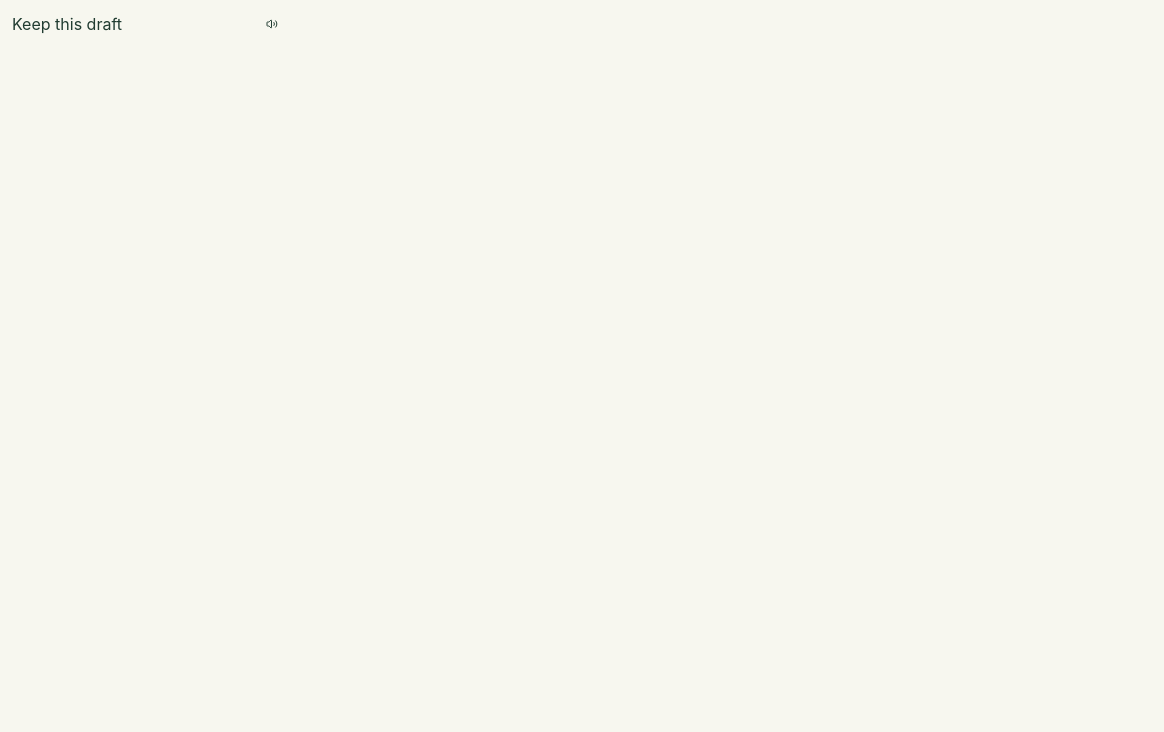
it: Pocket speed survives media loads across multiple passages
Step 1. Click the button named "Read aloud on this Mac" → (272, 24), box [260,12,284,36]
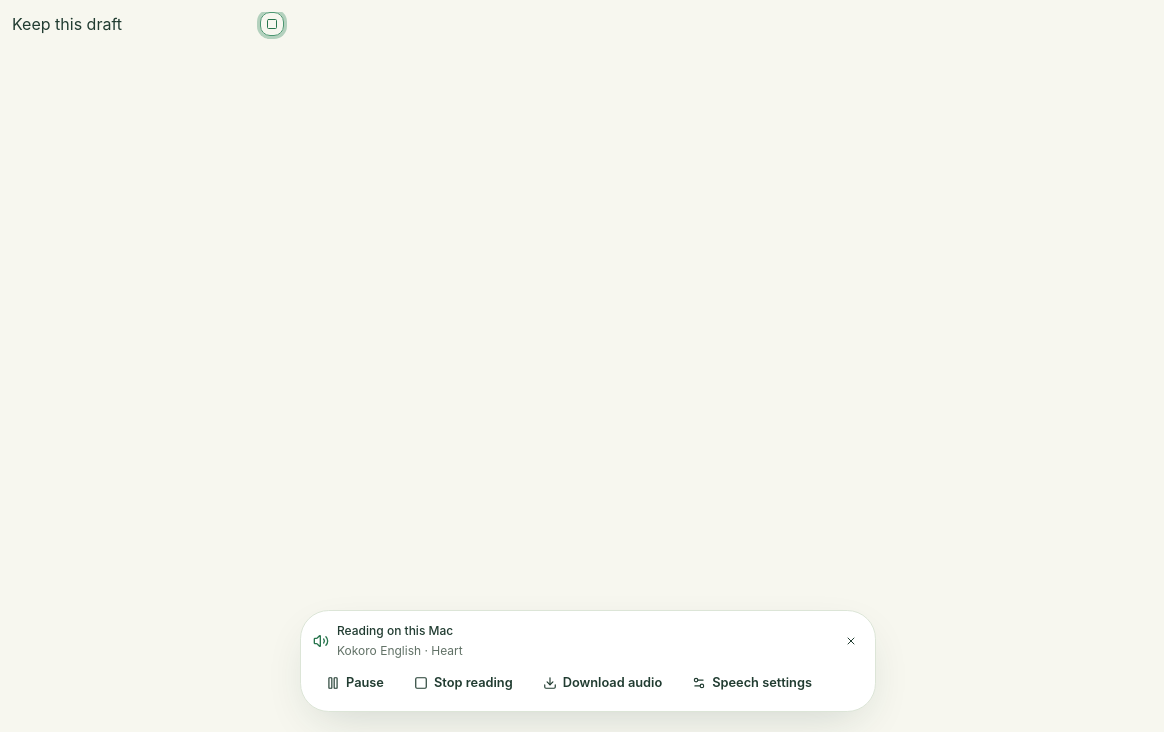
Result: the text "Reading on this Mac" is shown at [337,623,453,638]
